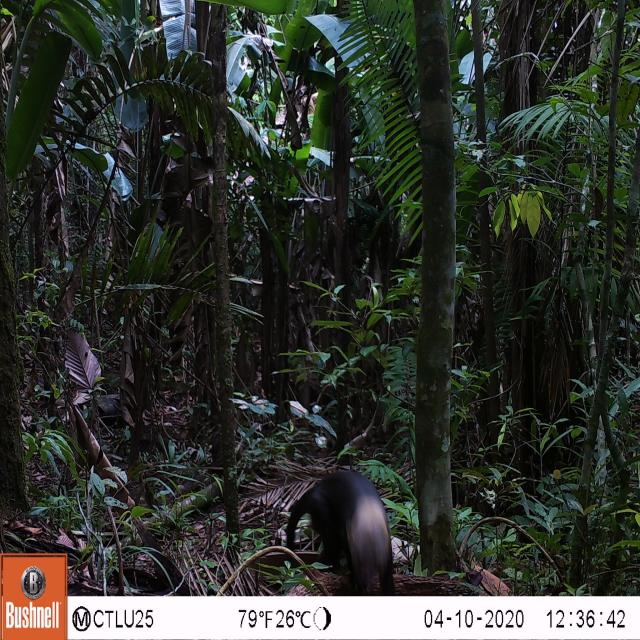Tayra: (279, 458, 405, 602)
